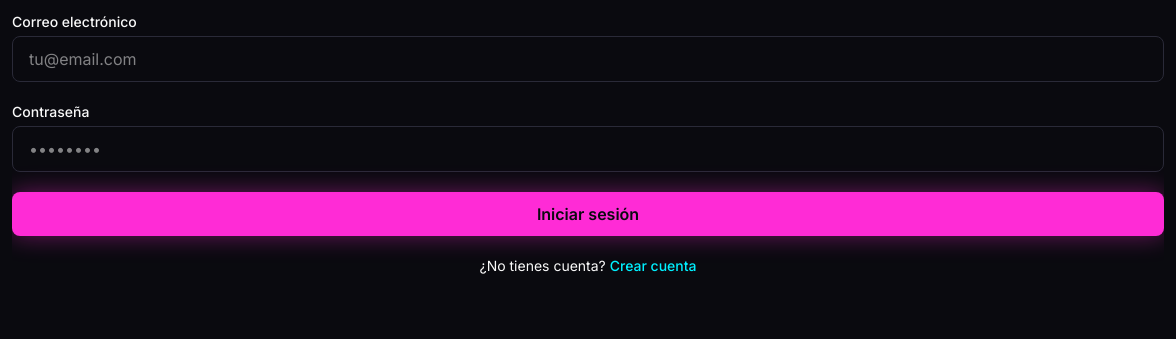
Test: LoginForm › shows validation errors for invalid input
Type "not-an-email" into the field labelled "Correo electrónico" at [588, 59], box [12, 36, 1164, 82]
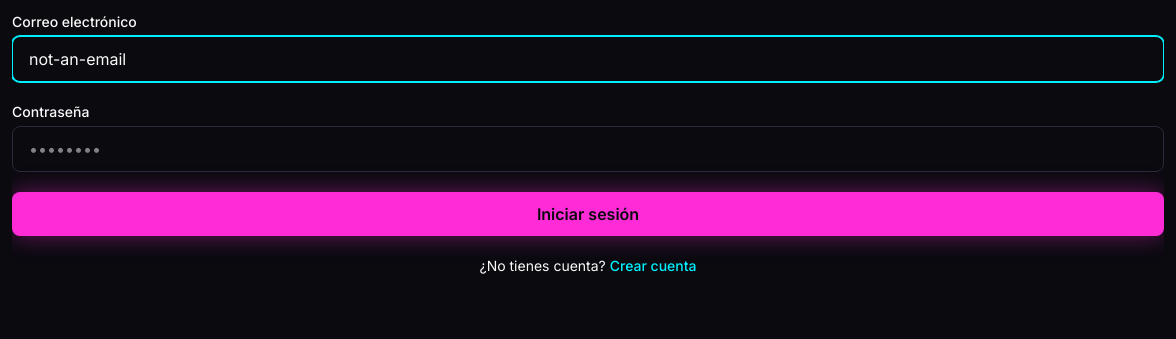
Type "short" into the password field labelled "Contraseña" at [588, 149], box [12, 126, 1164, 172]
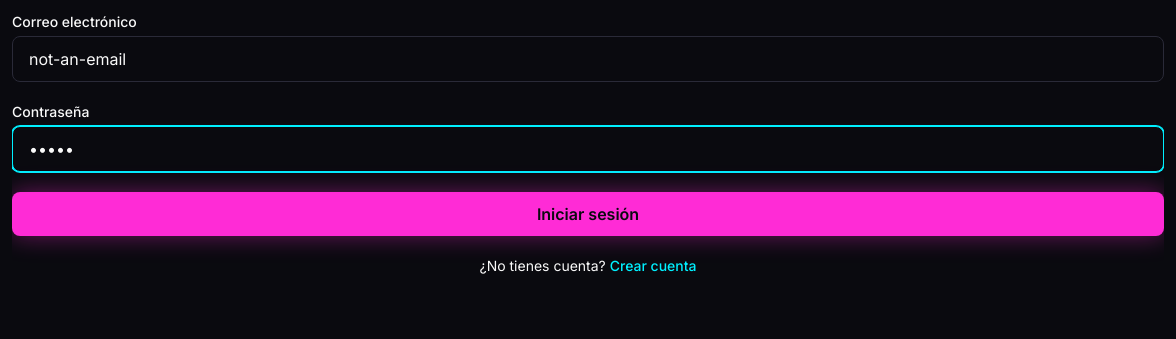
Click the button "Iniciar sesión" at [588, 214], box [12, 192, 1164, 236]
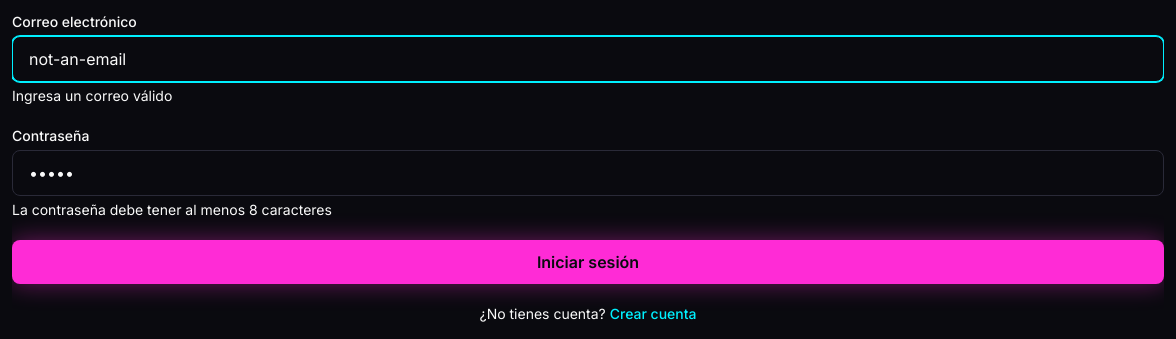
Result: the text "Ingresa un correo válido" is shown at [12, 87, 172, 104]
Result: the text "La contraseña debe tener al menos 8 caracteres" is shown at [12, 201, 332, 218]
